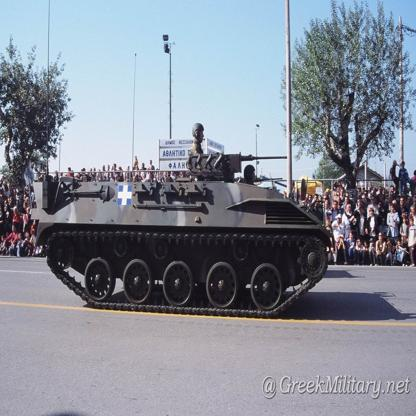Tank: (21, 135, 330, 333)
